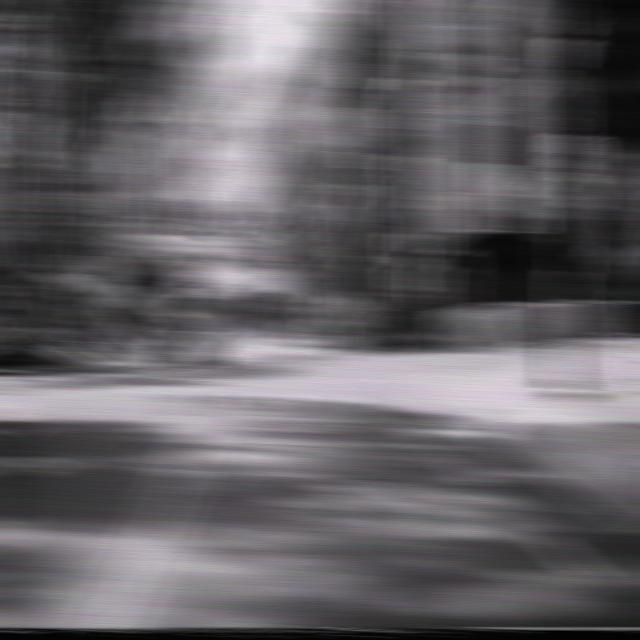stop: (533, 170, 589, 243)
